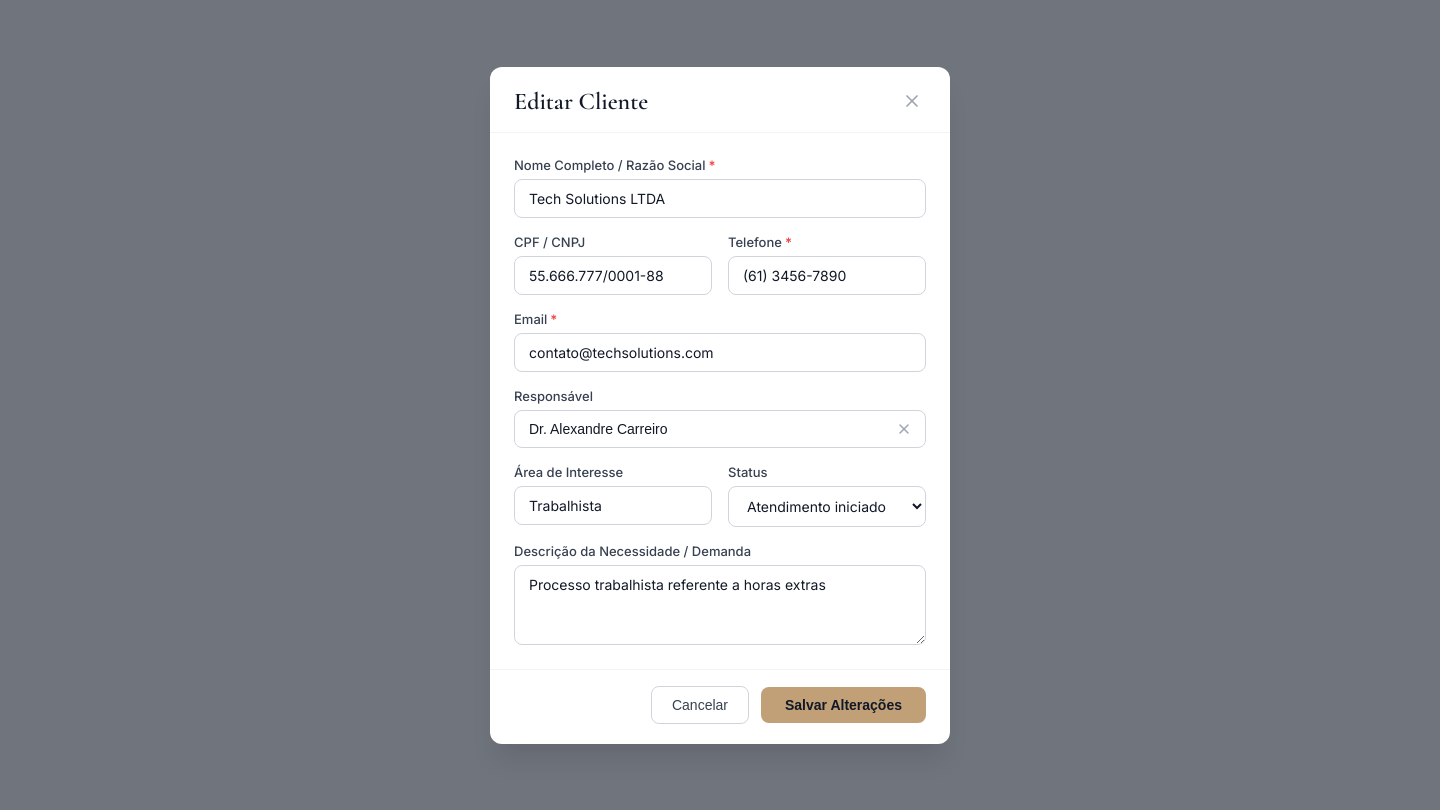
it: EditClientModal › exibe erro de validação quando há e-mail inválido
Replace the text in the field showing "contato@techsolutions.com" with "email_sem_arroba" at {"x": 720, "y": 352}, box [514,332,926,372]
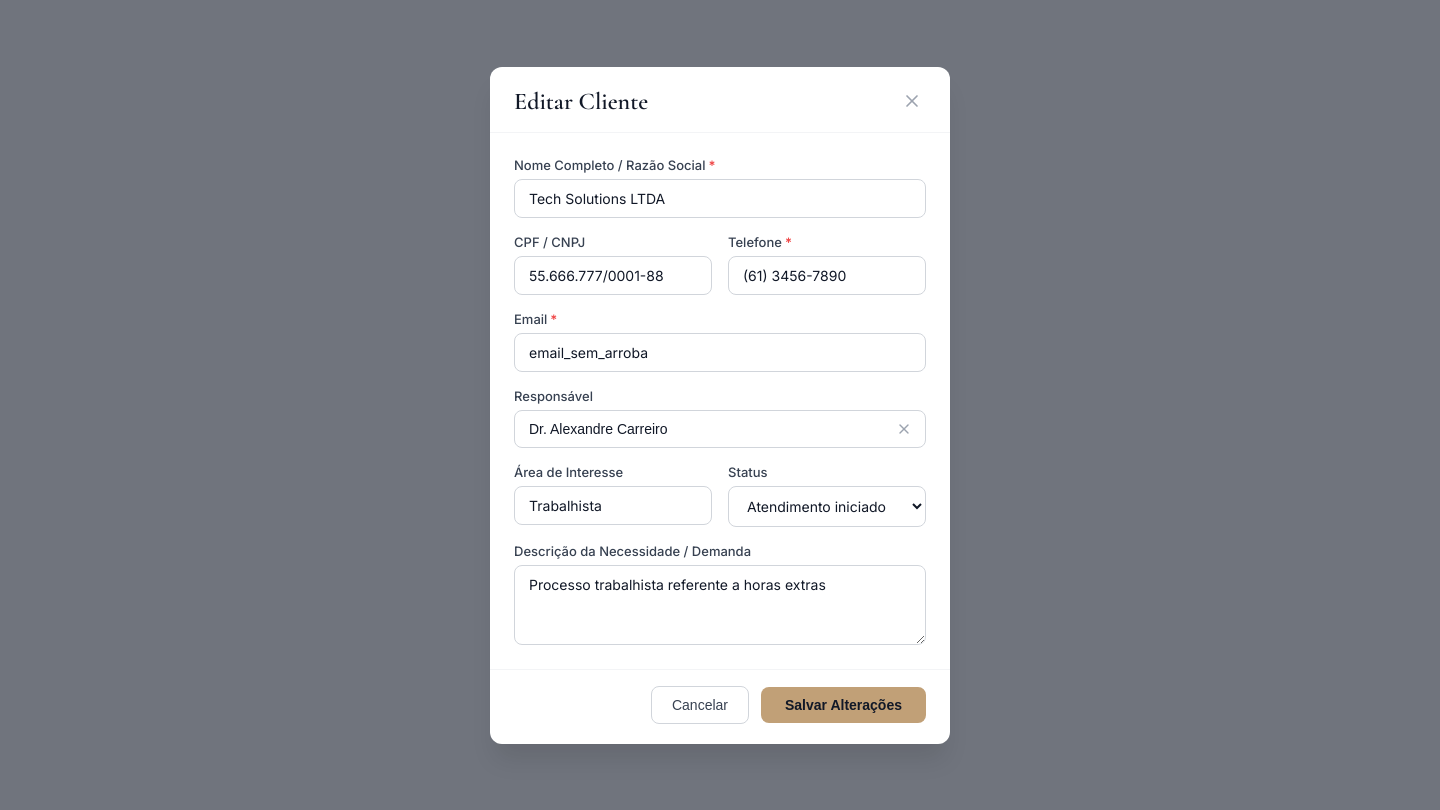
Click the button "Salvar Alterações" at {"x": 844, "y": 704}, box [761,686,926,722]
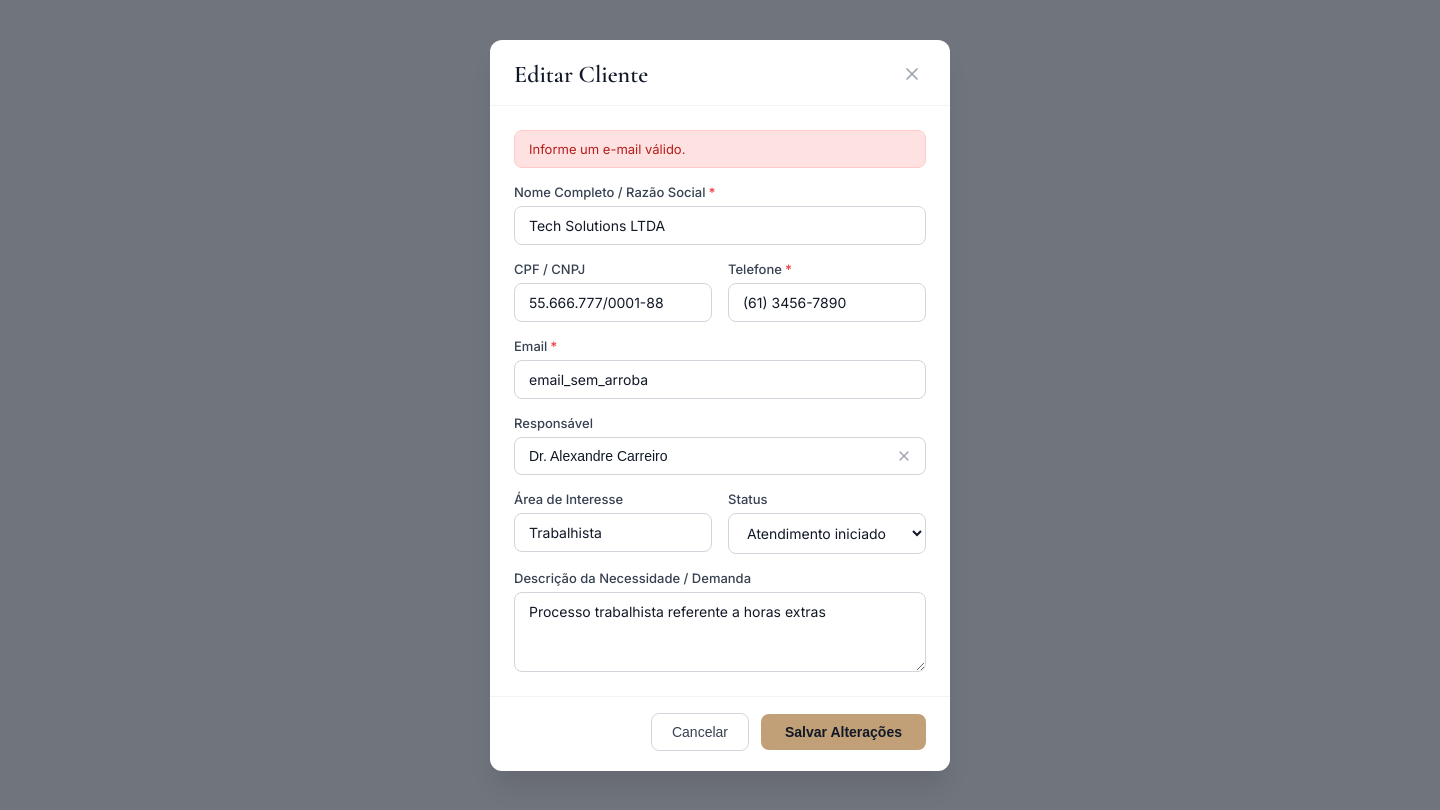
Expected: the text "Informe um e-mail válido." is shown, [514,130,926,168]
